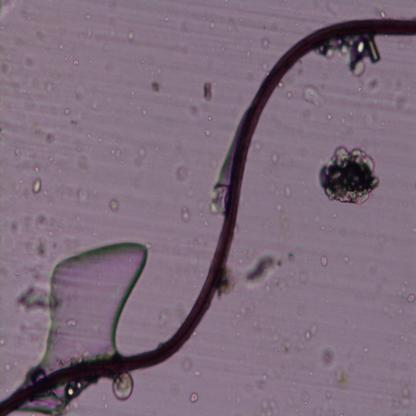Air bubble: (28, 229, 149, 381)
Background material: (314, 140, 382, 212), (35, 379, 99, 416), (337, 35, 385, 78), (242, 249, 278, 290), (14, 282, 55, 318), (297, 78, 328, 108), (270, 326, 304, 352), (206, 183, 232, 216), (28, 236, 56, 258), (390, 384, 412, 412), (327, 366, 349, 391), (31, 124, 55, 145), (392, 90, 412, 114), (184, 97, 203, 122), (34, 211, 56, 231), (316, 344, 335, 367), (273, 197, 287, 226), (132, 144, 150, 166), (258, 400, 282, 416), (73, 184, 90, 206), (202, 79, 217, 103), (8, 217, 25, 238), (2, 120, 19, 138), (110, 144, 124, 164), (363, 76, 380, 92), (146, 76, 161, 93), (31, 176, 45, 194), (0, 3, 16, 17), (323, 385, 334, 405), (304, 323, 316, 341), (66, 114, 80, 128), (177, 167, 189, 183), (188, 390, 200, 406), (24, 49, 35, 66), (317, 252, 328, 268), (182, 356, 193, 372), (0, 60, 10, 77), (110, 194, 119, 212), (200, 126, 214, 137), (259, 36, 270, 50), (180, 209, 191, 223), (301, 390, 310, 407), (74, 86, 84, 100), (258, 375, 268, 389), (154, 63, 164, 77), (313, 402, 323, 416), (261, 58, 270, 73), (125, 29, 136, 41), (252, 138, 262, 151), (300, 268, 308, 284), (285, 87, 295, 99), (270, 151, 280, 163), (22, 186, 32, 198), (149, 143, 161, 153), (284, 183, 292, 198), (340, 252, 349, 264), (400, 333, 410, 343), (49, 158, 60, 167), (325, 110, 334, 121), (275, 257, 283, 269), (86, 26, 94, 38), (63, 106, 72, 116), (406, 293, 416, 302), (162, 14, 171, 23), (396, 306, 404, 316), (14, 148, 22, 158), (192, 370, 202, 378), (285, 252, 293, 262), (144, 239, 152, 249), (209, 19, 216, 30), (141, 108, 148, 118), (361, 345, 368, 355), (72, 58, 80, 66), (244, 48, 252, 56), (85, 13, 92, 22), (46, 82, 52, 92), (218, 45, 226, 52), (127, 99, 134, 107), (318, 225, 326, 232), (34, 165, 41, 173), (58, 42, 64, 51), (278, 80, 284, 88), (130, 88, 135, 96), (331, 212, 336, 218), (98, 137, 103, 143), (404, 280, 408, 286), (208, 116, 212, 121), (140, 59, 144, 64), (64, 57, 68, 62)
Diatom: (112, 371, 135, 401)
Microfibre: (0, 13, 416, 416)
